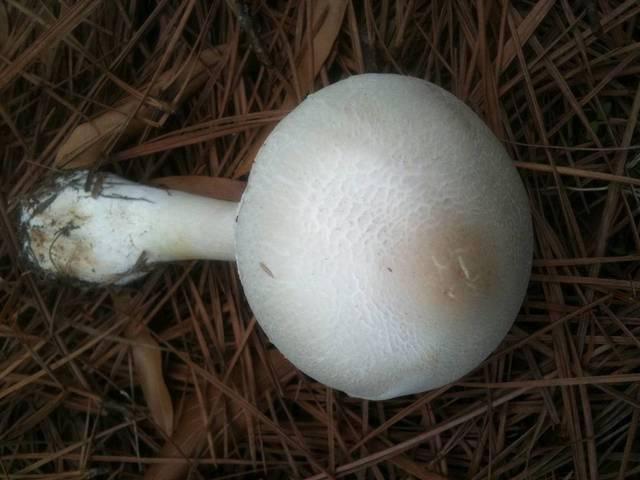poisonous_mushroom: (13, 70, 535, 401)
